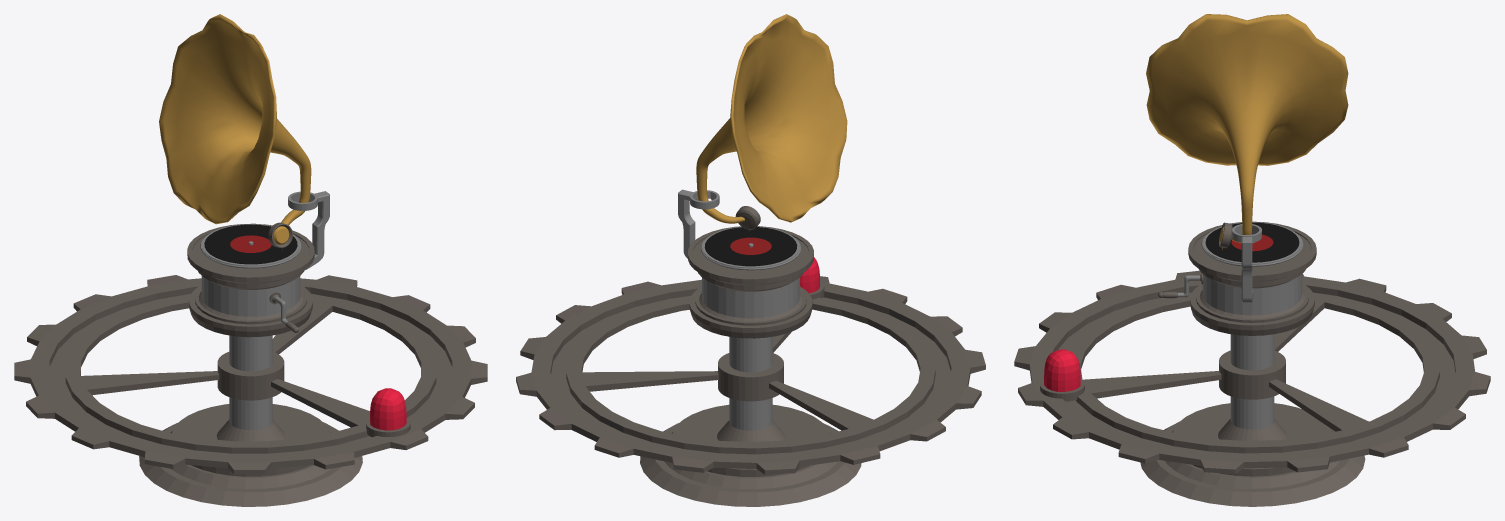
The model's file is enemy3.fbx.
3 renders of one model, left to right at view 1: azimuth 30°, elevation 25°; view 2: azimuth 150°, elevation 25°; view 3: azimuth 270°, elevation 25°, orthographic.
Visible parts, largest first — view 1: Cylinder.006, CD, Cylinder, Cylinder.002; view 2: Cylinder.006, CD, Cylinder; view 3: CD, Cylinder.006, Cylinder, Cylinder.002.
Boxes of the visible parts, box(x1,y1,x2,y2) form: Cylinder.006: box(14, 275, 487, 474); CD: box(159, 14, 329, 337); Cylinder: box(139, 335, 362, 506); Cylinder.002: box(370, 388, 406, 430); Cylinder.006: box(516, 276, 985, 474); CD: box(678, 14, 847, 338); Cylinder: box(640, 336, 861, 506); CD: box(1146, 14, 1348, 335); Cylinder.006: box(1014, 270, 1490, 473); Cylinder: box(1140, 334, 1365, 506); Cylinder.002: box(1044, 349, 1080, 391).
Bounding box in the file's own units: 2018 × 2055 × 2018.
